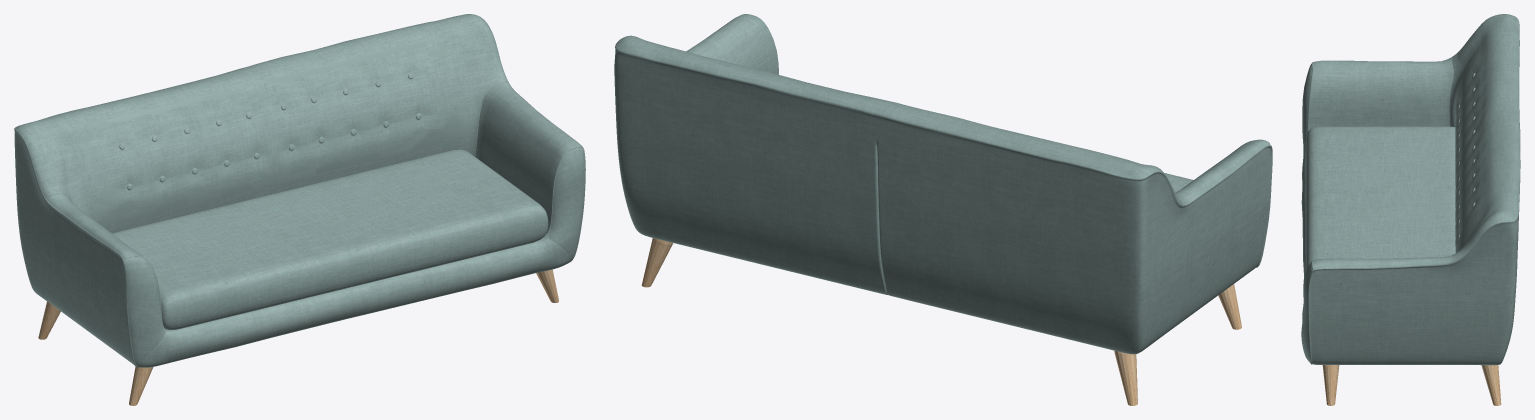
The picture shows the model from 3 angles, left to right: view 1: azimuth 30°, elevation 25°; view 2: azimuth 150°, elevation 25°; view 3: azimuth 270°, elevation 25°; orthographic projection. The views are drawn at different scales.
Parts seen in each view (by area): view 1: fabric, wood; view 2: fabric, wood; view 3: fabric, wood.
Part boxes in pixels (x1,y1,x2,y2): fabric: (14, 14, 585, 367); wood: (38, 269, 558, 405); fabric: (614, 14, 1272, 354); wood: (641, 238, 1241, 405); fabric: (1301, 14, 1520, 365); wood: (1322, 365, 1501, 405).
Bounding box in the file's own units: 190 × 83.44 × 84.08.
Materials: 2 (2 with a texture image).
